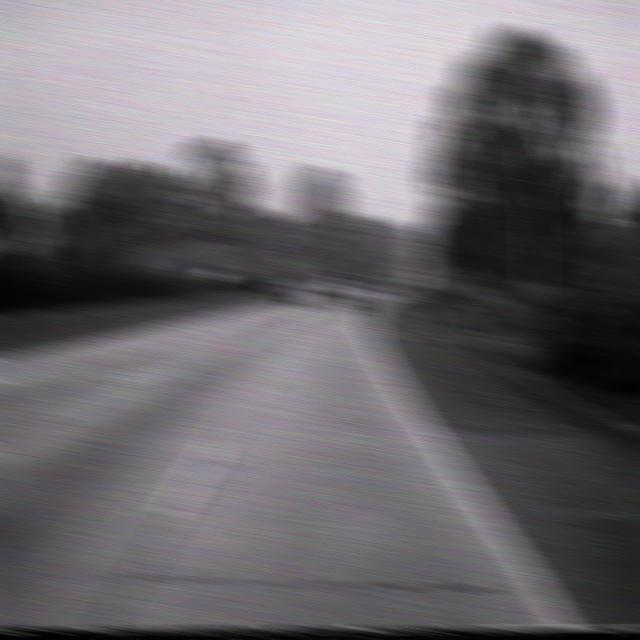speedLimit65: (406, 238, 432, 273)
